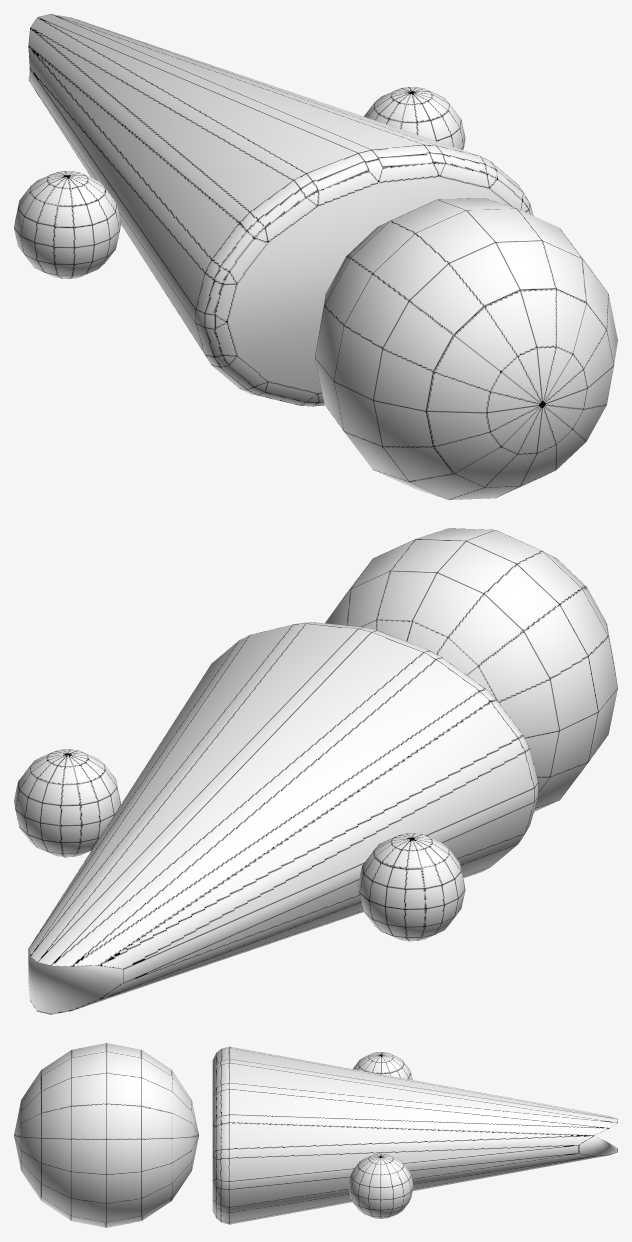
Rendered from TaoLalaki.fbx.
3 views of the same model, one above another, from view 1: azimuth 30°, elevation 25°; view 2: azimuth 150°, elevation 25°; view 3: azimuth 270°, elevation 25° (orthographic). The views are drawn at different scales.
Visible parts, largest first — view 1: sphere3; view 2: sphere3; view 3: sphere3.
Boxes of the visible parts, box(x1,y1,x2,y2) form: sphere3: box(14, 14, 617, 499); sphere3: box(14, 528, 617, 1014); sphere3: box(14, 1043, 617, 1227).
Bounding box in the file's own units: 33.08 × 20 × 65.27.
Materials: 1 (1 with a texture image).
